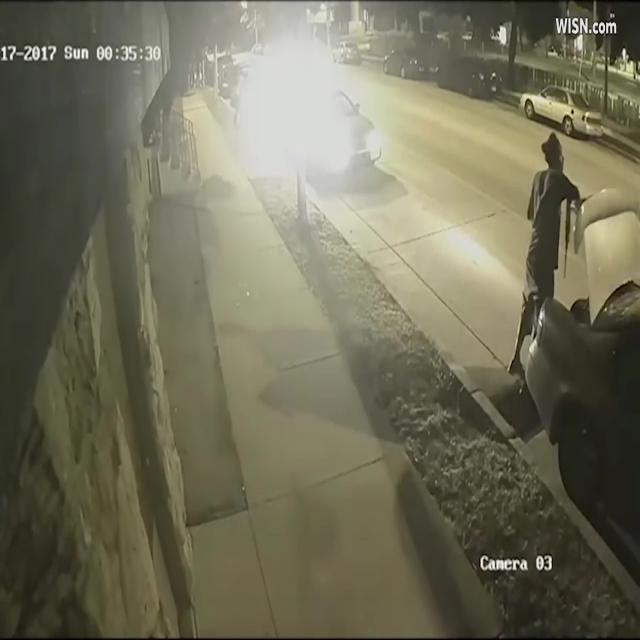Weapon: (559, 174, 584, 299)
